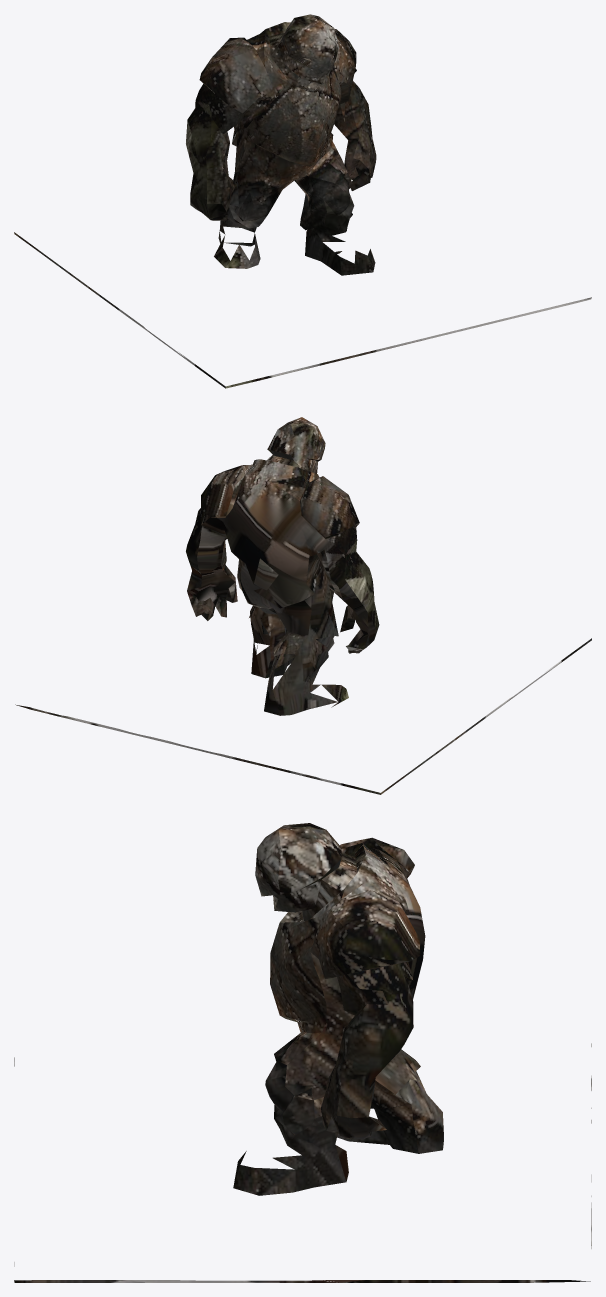
Rendered from tanker.glb.
The picture shows the model from 3 angles, top to bottom: view 1: azimuth 30°, elevation 25°; view 2: azimuth 150°, elevation 25°; view 3: azimuth 270°, elevation 25°; orthographic projection. The views are drawn at different scales.
Bounding box in the file's own units: 1.99 × 1.29 × 1.99.
Materials: 1 (1 with a texture image).
